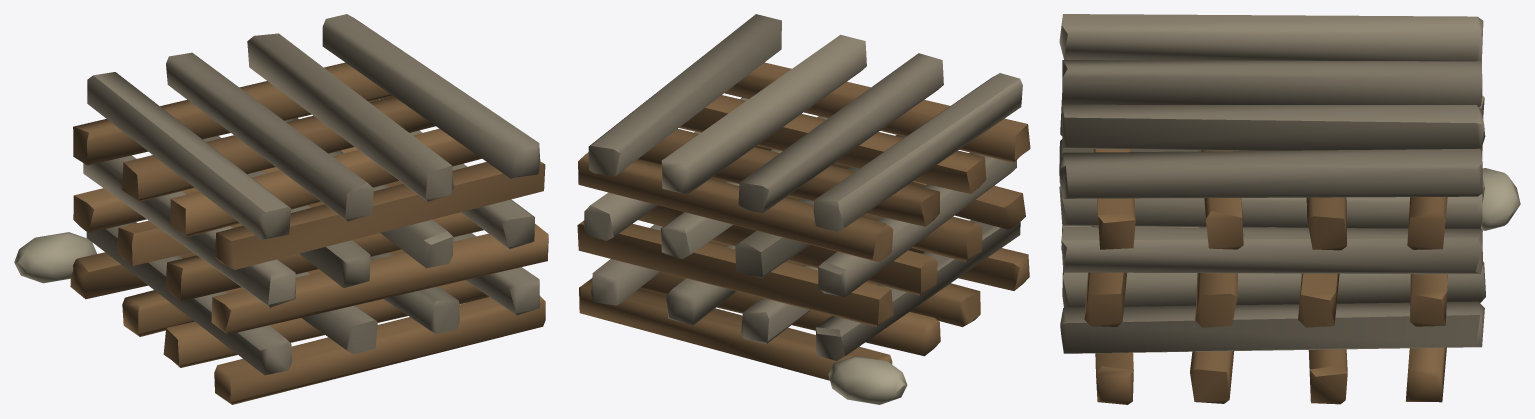
File: lagging_stack_a_lod1.glb
3 views of the same model, side by side, from view 1: azimuth 30°, elevation 25°; view 2: azimuth 150°, elevation 25°; view 3: azimuth 270°, elevation 25° (orthographic). The views are drawn at different scales.
Parts seen in each view (by area): view 1: Surface.001; view 2: Surface.001; view 3: Surface.001.
Boxes of the visible parts, x1,y1,x2,y2 form: Surface.001: [14, 14, 548, 404]; Surface.001: [577, 14, 1030, 404]; Surface.001: [1059, 14, 1520, 404].
Size of the model in its own units: 2.24 by 1.2 by 2.17.
